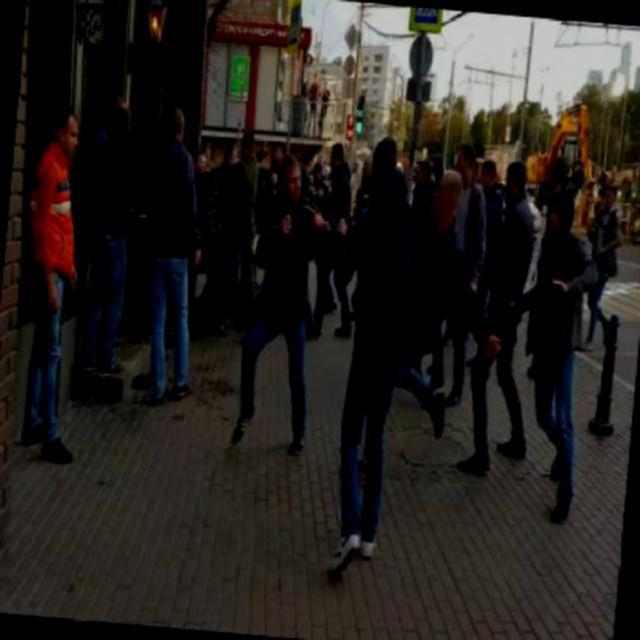non-fight: (4, 103, 108, 468)
